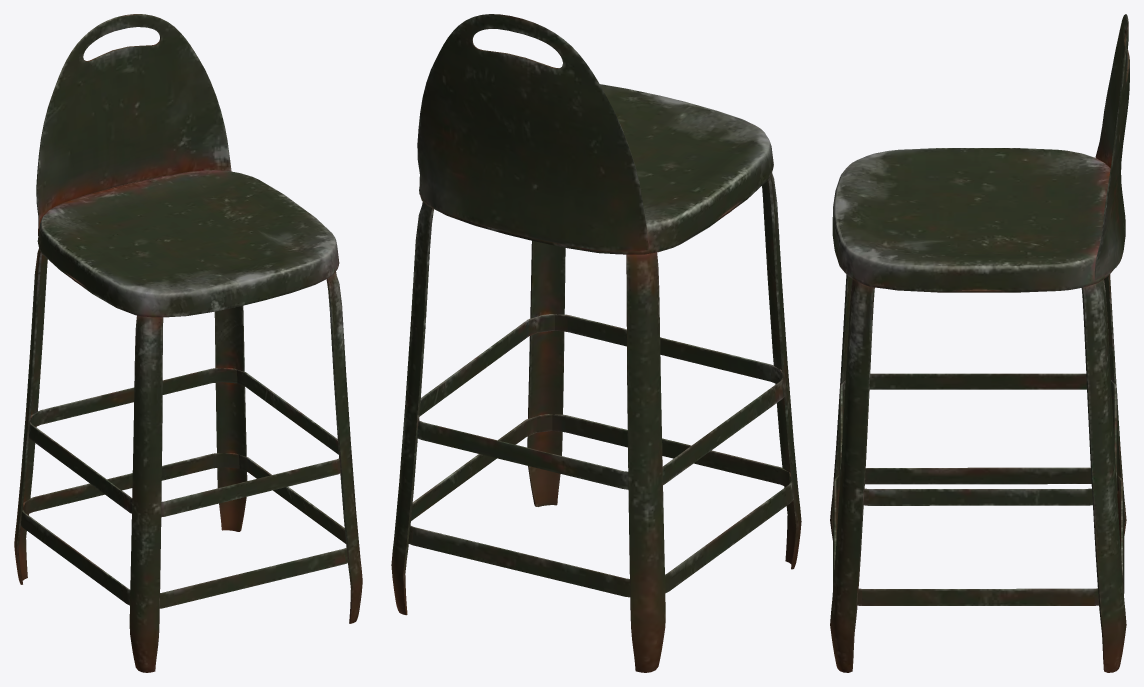
File: metal_stool_03.glb
3 renders of one model, left to right at view 1: azimuth 30°, elevation 25°; view 2: azimuth 150°, elevation 25°; view 3: azimuth 270°, elevation 25°, orthographic. The views are drawn at different scales.
Parts seen in each view (by area): view 1: metal_stool_03; view 2: metal_stool_03; view 3: metal_stool_03.
Part boxes in pixels (left/top/right/bottom): metal_stool_03: left=14, top=14, right=362, bottom=672; metal_stool_03: left=391, top=14, right=801, bottom=672; metal_stool_03: left=830, top=14, right=1129, bottom=672.
Bounding box in the file's own units: 0.4606 × 1.02 × 0.4706.
1 material, 1 textured.
